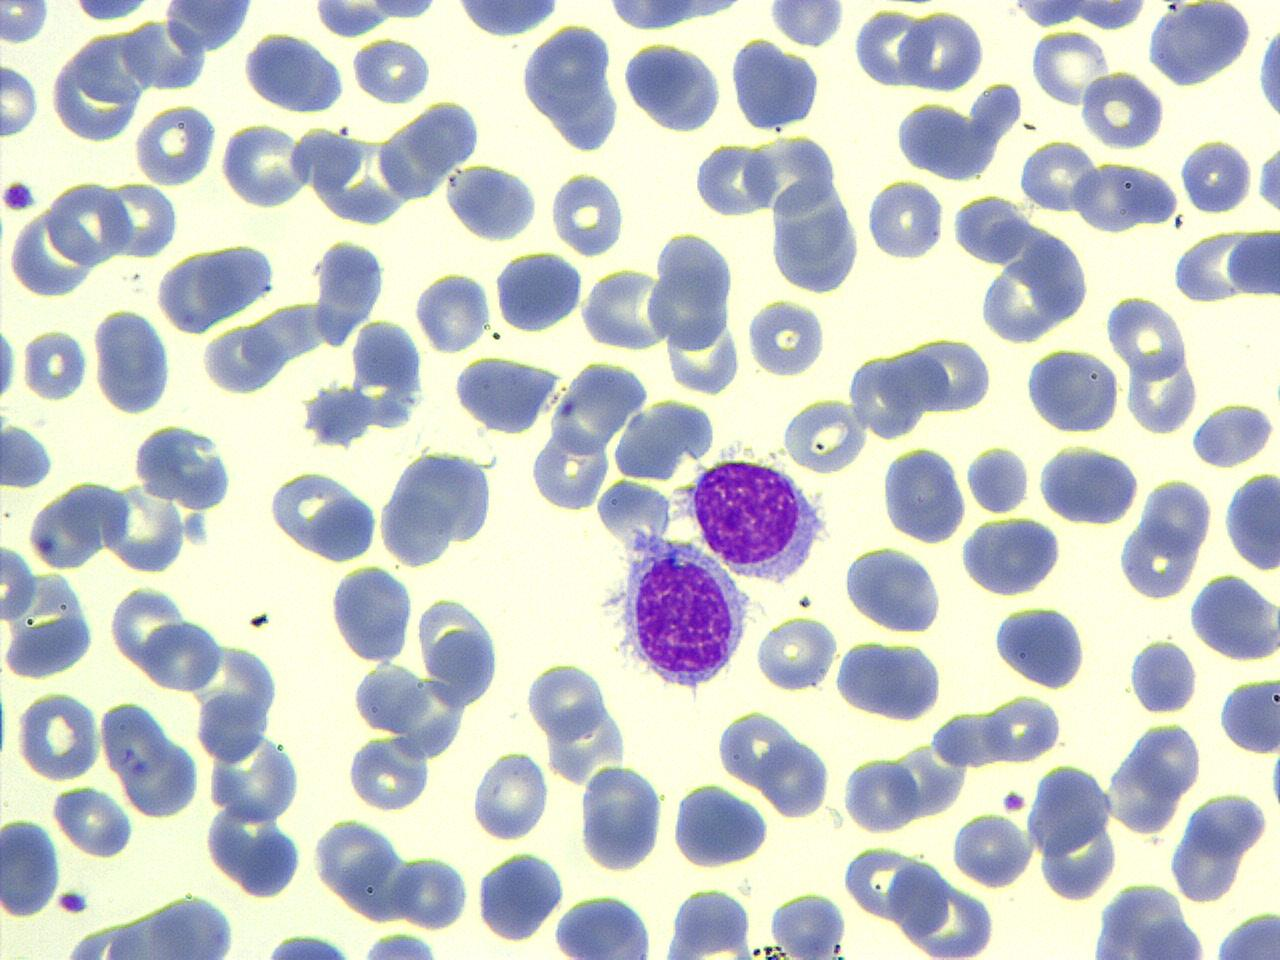Platelets: (0, 418, 57, 492), (766, 3, 848, 50), (1253, 19, 1280, 125), (356, 930, 442, 960), (1254, 140, 1280, 221), (0, 322, 19, 404), (0, 179, 37, 214), (182, 508, 210, 547), (55, 888, 90, 916), (1000, 789, 1027, 814), (1269, 750, 1280, 810), (1164, 2, 1180, 14)
RBC: (976, 215, 1092, 348), (888, 81, 1024, 186), (97, 696, 202, 822), (647, 232, 735, 356), (0, 566, 96, 679), (268, 465, 376, 562), (204, 727, 303, 827), (830, 638, 944, 724), (576, 762, 664, 873), (842, 544, 946, 634), (240, 30, 348, 116), (1022, 344, 1122, 436), (474, 847, 566, 944), (1038, 441, 1142, 526), (1186, 570, 1280, 664), (326, 564, 414, 664), (1168, 224, 1270, 306), (14, 688, 101, 784), (443, 160, 540, 244), (579, 264, 669, 354), (530, 417, 611, 516), (470, 746, 552, 843), (220, 121, 309, 209), (46, 178, 130, 270), (493, 250, 584, 334), (132, 100, 218, 188), (1117, 512, 1201, 602), (1107, 291, 1189, 382), (109, 580, 188, 674), (658, 884, 758, 958), (900, 8, 984, 95), (692, 136, 777, 221), (1080, 67, 1166, 151), (782, 394, 868, 478), (744, 295, 828, 380), (344, 731, 431, 813), (950, 808, 1037, 890), (548, 167, 626, 258), (753, 612, 838, 694), (526, 658, 608, 742), (907, 333, 992, 414), (865, 176, 946, 261), (414, 267, 493, 354), (140, 613, 224, 693), (1124, 348, 1200, 436), (51, 782, 135, 861), (717, 708, 797, 790), (1027, 28, 1109, 108), (1018, 136, 1102, 214), (0, 814, 63, 918), (840, 754, 918, 836), (854, 6, 930, 90), (843, 841, 920, 923), (391, 852, 469, 932), (760, 735, 832, 820), (1124, 636, 1200, 716), (105, 179, 179, 261), (1222, 468, 1280, 570), (1179, 136, 1253, 215), (983, 693, 1064, 765), (767, 889, 849, 958), (350, 35, 432, 104), (888, 857, 954, 940), (18, 326, 89, 402), (159, 0, 256, 54), (1217, 672, 1279, 755), (302, 0, 436, 37), (963, 442, 1030, 516), (883, 345, 951, 416), (448, 1, 563, 41), (766, 1, 849, 50), (1224, 229, 1278, 298), (1209, 908, 1280, 959), (0, 58, 40, 140), (0, 536, 36, 622), (0, 0, 51, 45)
WBC: (613, 532, 754, 696), (688, 454, 828, 586), (375, 444, 502, 572), (974, 216, 1094, 348), (518, 19, 624, 158), (1024, 758, 1122, 902), (99, 693, 202, 824), (50, 892, 246, 960), (888, 86, 1024, 183), (153, 240, 280, 337), (0, 568, 100, 682), (768, 182, 868, 294), (1166, 788, 1272, 888), (131, 420, 241, 514), (448, 350, 562, 439), (625, 34, 727, 133), (1143, 1, 1255, 90), (832, 638, 946, 723), (728, 35, 826, 133), (240, 29, 351, 115), (1022, 344, 1122, 438), (844, 541, 948, 631), (1083, 887, 1211, 960), (670, 778, 771, 870), (879, 443, 969, 546), (91, 306, 175, 416), (990, 602, 1091, 693), (474, 848, 567, 946), (1038, 442, 1144, 527), (328, 562, 414, 666), (959, 514, 1065, 598), (444, 157, 540, 246), (1188, 570, 1278, 663), (494, 249, 583, 336), (551, 892, 656, 958), (0, 814, 65, 918), (1188, 397, 1276, 472), (1126, 633, 1200, 718), (980, 0, 1174, 32), (1221, 468, 1280, 572), (582, 0, 765, 33), (1217, 672, 1280, 759), (158, 0, 257, 53), (445, 0, 568, 37), (0, 420, 56, 492), (1210, 906, 1280, 960), (249, 929, 368, 959), (1255, 10, 1280, 136), (350, 928, 448, 959)
